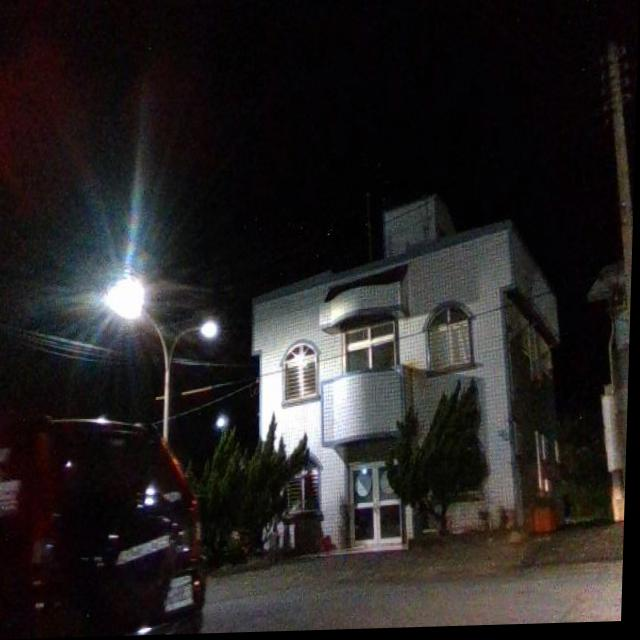pollute: (529, 503, 569, 543)
